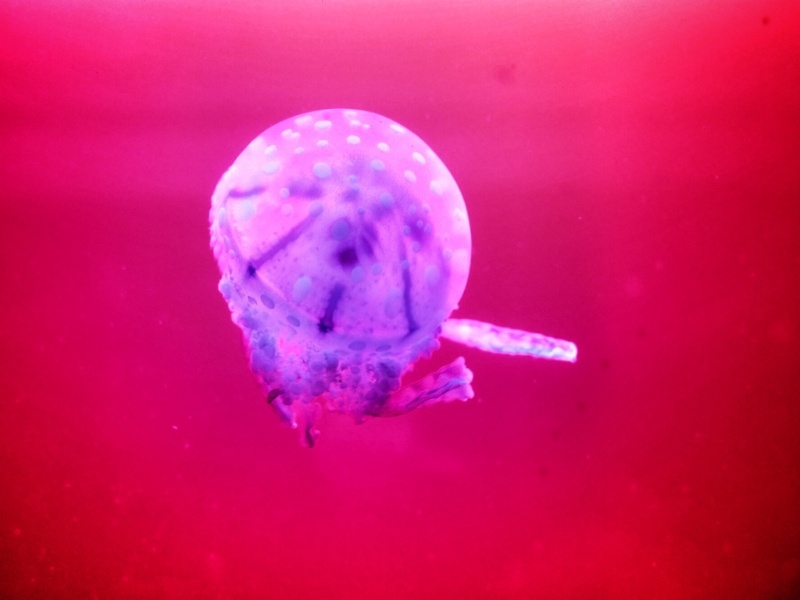Jellyfish: (233, 91, 574, 445)
